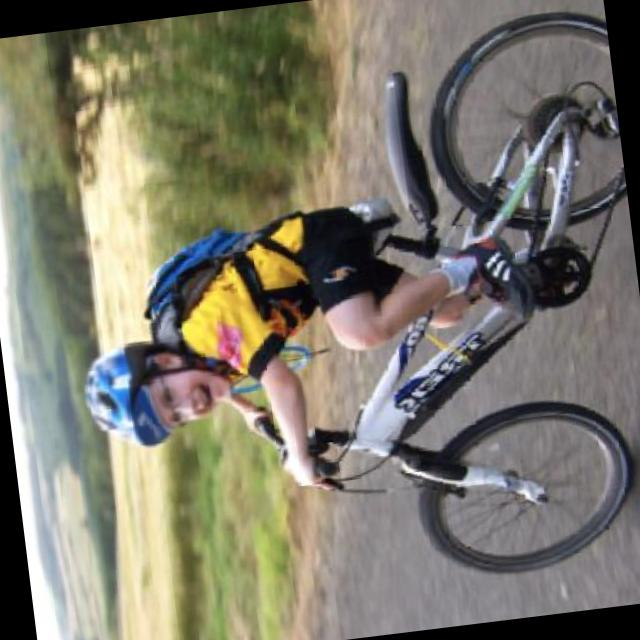With Helmet: (72, 330, 238, 460)
